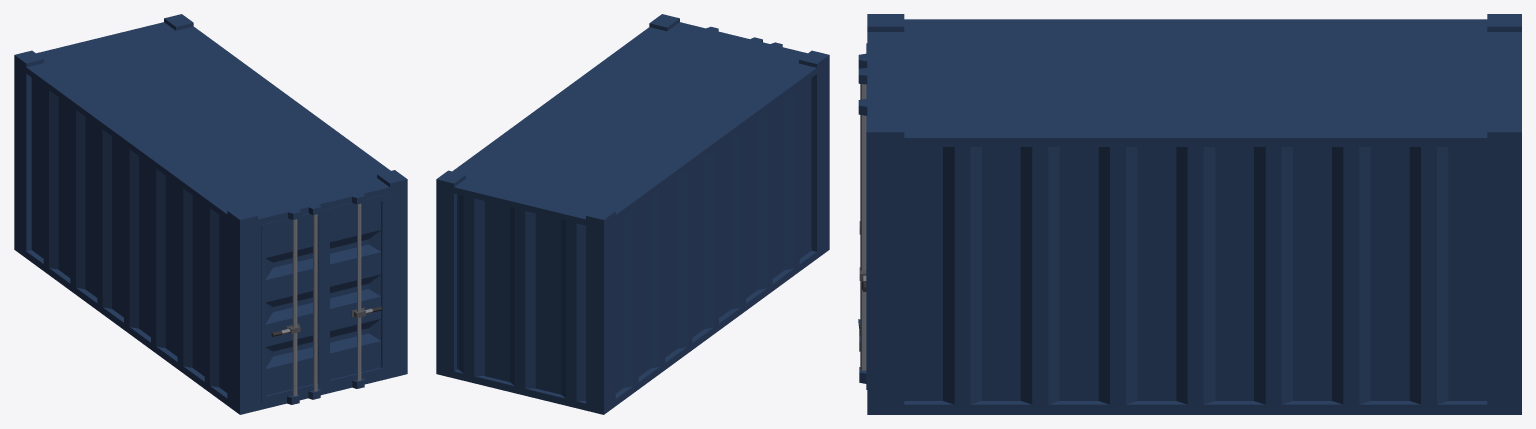
The model's file is Container_02_LOD0.fbx.
The picture shows the model from 3 angles, left to right: view 1: azimuth 30°, elevation 25°; view 2: azimuth 150°, elevation 25°; view 3: azimuth 270°, elevation 25°; orthographic projection. The views are drawn at different scales.
Visible parts, largest first — view 1: Container_Complex_02, Container_Complex_02_Door_L, Container_Complex_02_Door_R; view 2: Container_Complex_02; view 3: Container_Complex_02, Container_Complex_02_Door_R.
Part boxes in pixels (box(x1,y1,x2,y2)): Container_Complex_02: box(14, 14, 407, 414); Container_Complex_02_Door_L: box(261, 209, 324, 402); Container_Complex_02_Door_R: box(324, 194, 386, 387); Container_Complex_02: box(436, 14, 829, 414); Container_Complex_02: box(858, 14, 1521, 414); Container_Complex_02_Door_R: box(859, 87, 867, 389).
Size of the model in its own units: 2.53 by 2.82 by 6.
